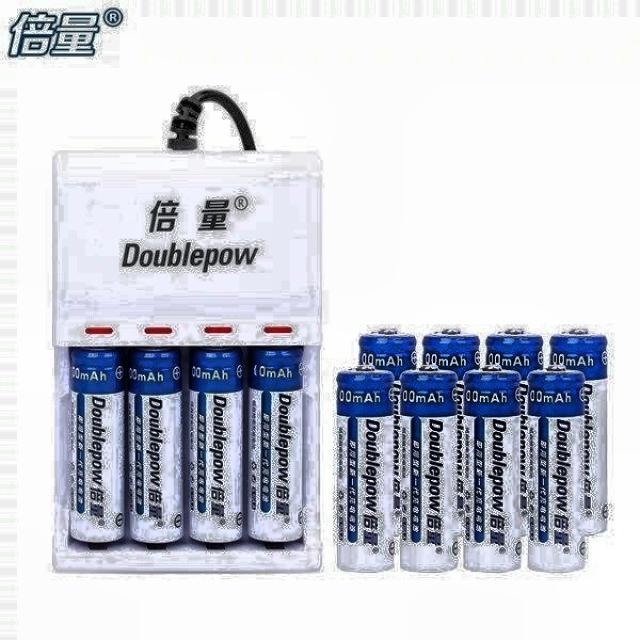Non-Valuable Waste - Batteries: (550, 329, 609, 534), (400, 365, 458, 571), (528, 365, 586, 571), (464, 365, 521, 571), (338, 366, 395, 571), (128, 348, 184, 543), (70, 348, 125, 543), (248, 348, 302, 543), (189, 348, 242, 543), (486, 329, 542, 380), (359, 329, 416, 379), (424, 329, 480, 379)
